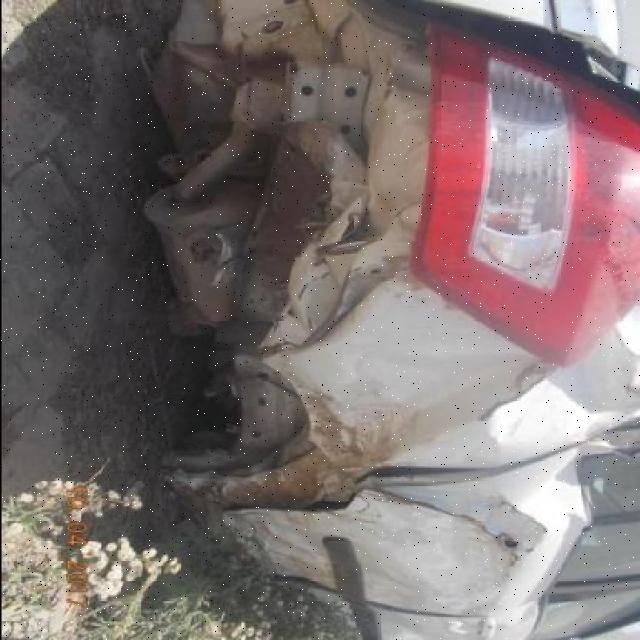damage: (133, 0, 640, 564)
